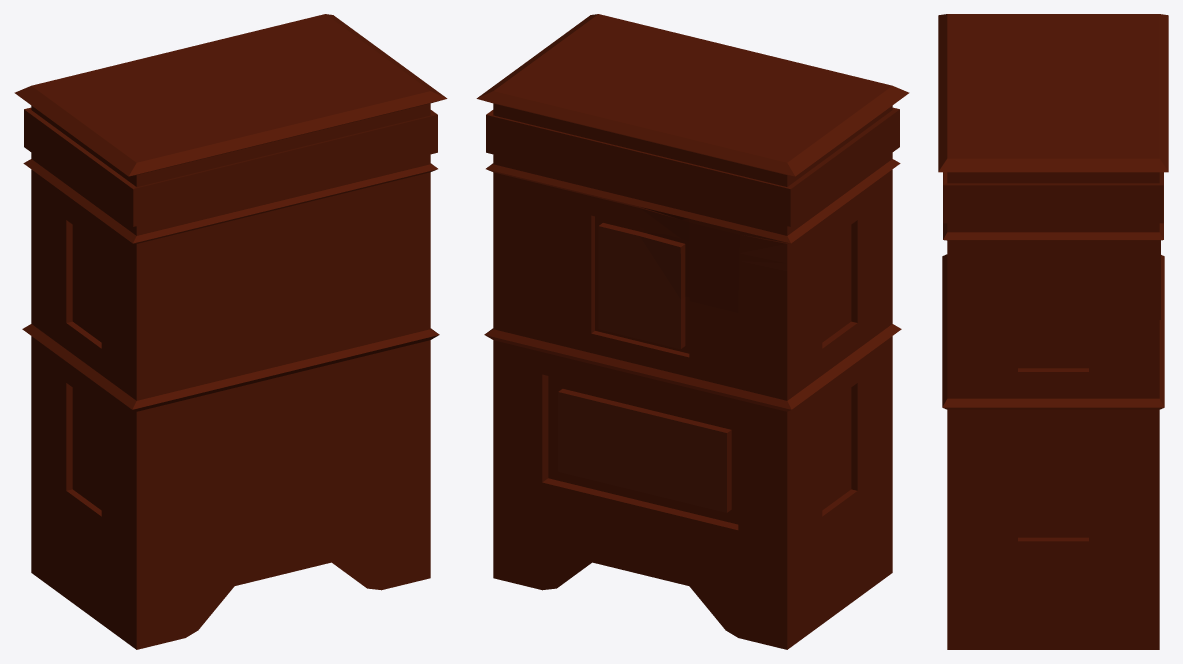
File: cabinet.fbx
3 views of the same model, side by side, from view 1: azimuth 30°, elevation 25°; view 2: azimuth 150°, elevation 25°; view 3: azimuth 270°, elevation 25° (orthographic).
Visible parts, largest first — view 1: pCube1; view 2: pCube1; view 3: pCube1.
Boxes of the visible parts, x1,y1,x2,y2 form: pCube1: (14,14,447,649); pCube1: (476,14,909,649); pCube1: (938,14,1168,649).
Bounding box in the file's own units: 2.73 × 3.98 × 1.69.
